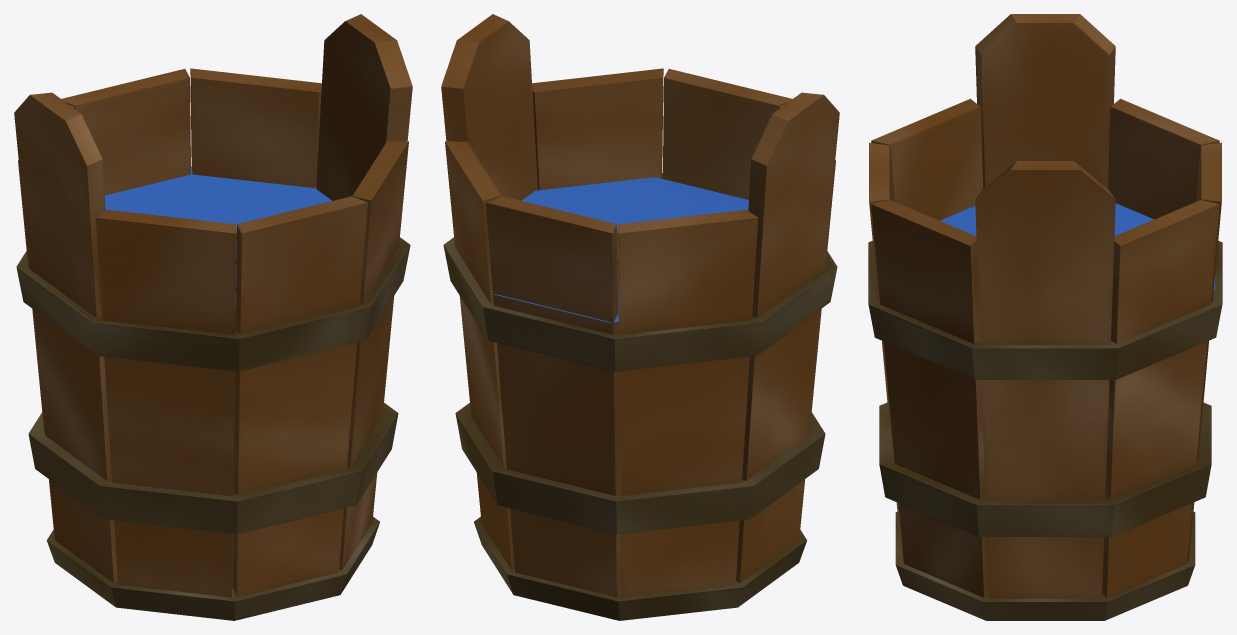
File: WaterBucket.fbx
The picture shows the model from 3 angles, left to right: view 1: azimuth 30°, elevation 25°; view 2: azimuth 150°, elevation 25°; view 3: azimuth 270°, elevation 25°; orthographic projection. The views are drawn at different scales.
Parts seen in each view (by area): view 1: WaterBucket; view 2: WaterBucket; view 3: WaterBucket.
Part boxes in pixels (bbox=[...]): WaterBucket: bbox=[14, 14, 412, 620]; WaterBucket: bbox=[441, 14, 839, 620]; WaterBucket: bbox=[868, 14, 1222, 620].
Bounding box in the file's own units: 145 × 204 × 139.
